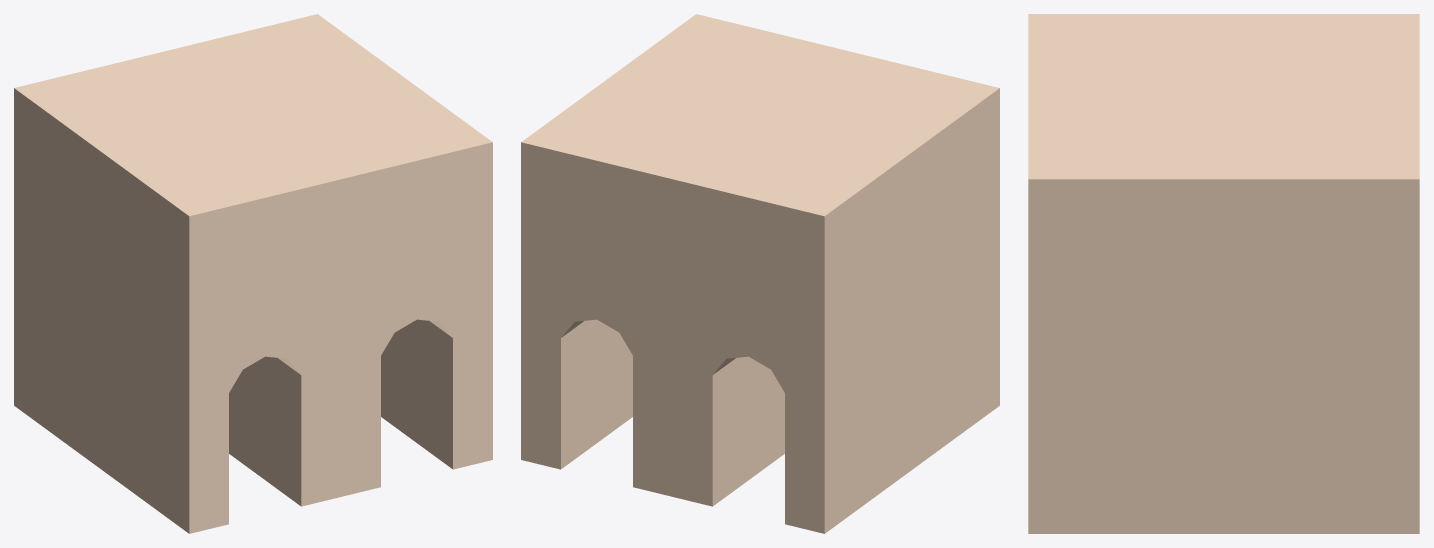
The model's file is Abstract_Castle_Block_1_Unit_Beige_Arch_Dual_01.fbx.
3 renders of one model, left to right at view 1: azimuth 30°, elevation 25°; view 2: azimuth 150°, elevation 25°; view 3: azimuth 270°, elevation 25°, orthographic. The views are drawn at different scales.
Parts seen in each view (by area): view 1: Model; view 2: Model; view 3: Model.
Part boxes in pixels (box(x1,y1,x2,y2)): Model: box(14, 14, 492, 533); Model: box(521, 14, 999, 533); Model: box(1028, 14, 1419, 533).
Size of the model in its own units: 1000 by 1000 by 1000.
